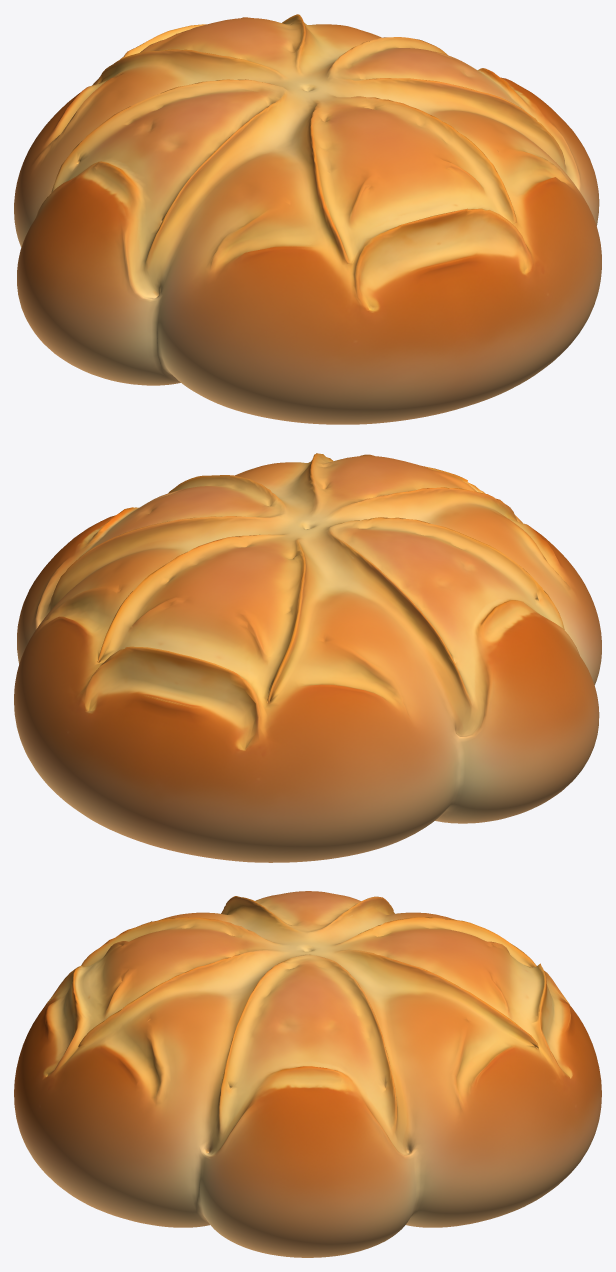
3 views of the same model, one above another, from view 1: azimuth 30°, elevation 25°; view 2: azimuth 150°, elevation 25°; view 3: azimuth 270°, elevation 25° (orthographic). The views are drawn at different scales.
Visible parts, largest first — view 1: model; view 2: model; view 3: model.
Part boxes in pixels (<box>): model: <box>14,14,601,424</box>; model: <box>14,453,601,862</box>; model: <box>14,891,601,1257</box>.
Size of the model in its own units: 1.88 by 0.7996 by 1.9.
1 material, 1 textured.
